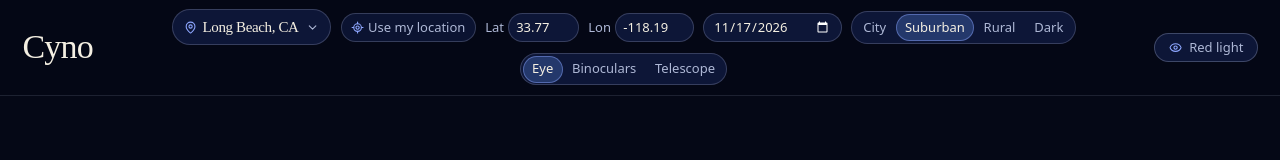
Test: ControlsBar › shows the parsePlanInput error for latitude 95
Replace the text in the number field named "Latitude" with "95" at (543, 27), box [508, 13, 579, 42]
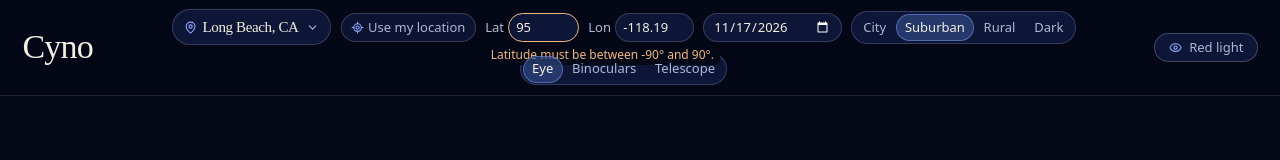
Result: the message reads "Latitude must be between -90° and 90°." at [491, 46, 714, 62]
